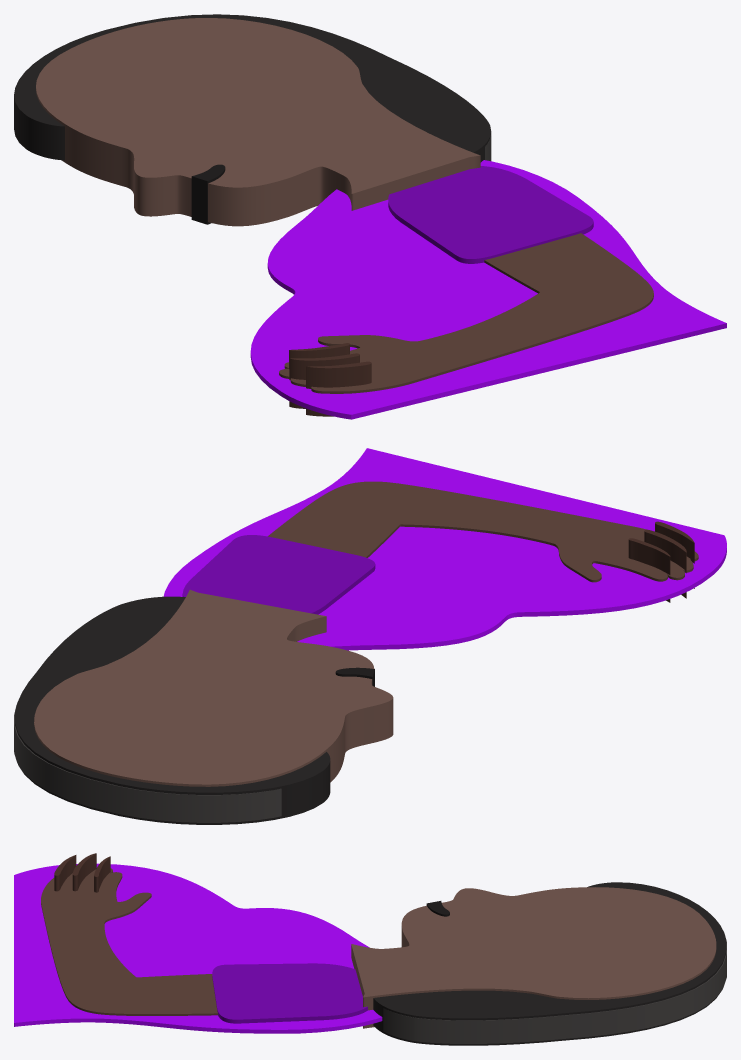
The model's file is emoji_u1f930_1f3ff.glb.
3 views of the same model, one above another, from view 1: azimuth 30°, elevation 25°; view 2: azimuth 150°, elevation 25°; view 3: azimuth 270°, elevation 25° (orthographic). The views are drawn at different scales.
Parts seen in each view (by area): view 1: emoji_u1f930_1f3ff; view 2: emoji_u1f930_1f3ff; view 3: emoji_u1f930_1f3ff.
Boxes of the visible parts, box(x1,y1,x2,y2) form: emoji_u1f930_1f3ff: box(14, 14, 726, 419); emoji_u1f930_1f3ff: box(14, 448, 726, 824); emoji_u1f930_1f3ff: box(14, 853, 726, 1045).
Size of the model in its own units: 0.0183 by 0.002 by 0.0331.
